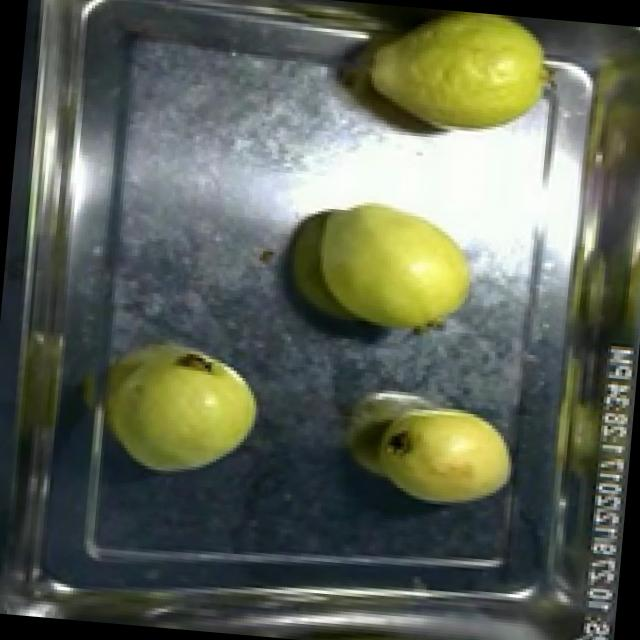Fruit: (274, 182, 488, 346), (355, 3, 568, 151), (95, 327, 270, 488), (362, 392, 522, 516)
